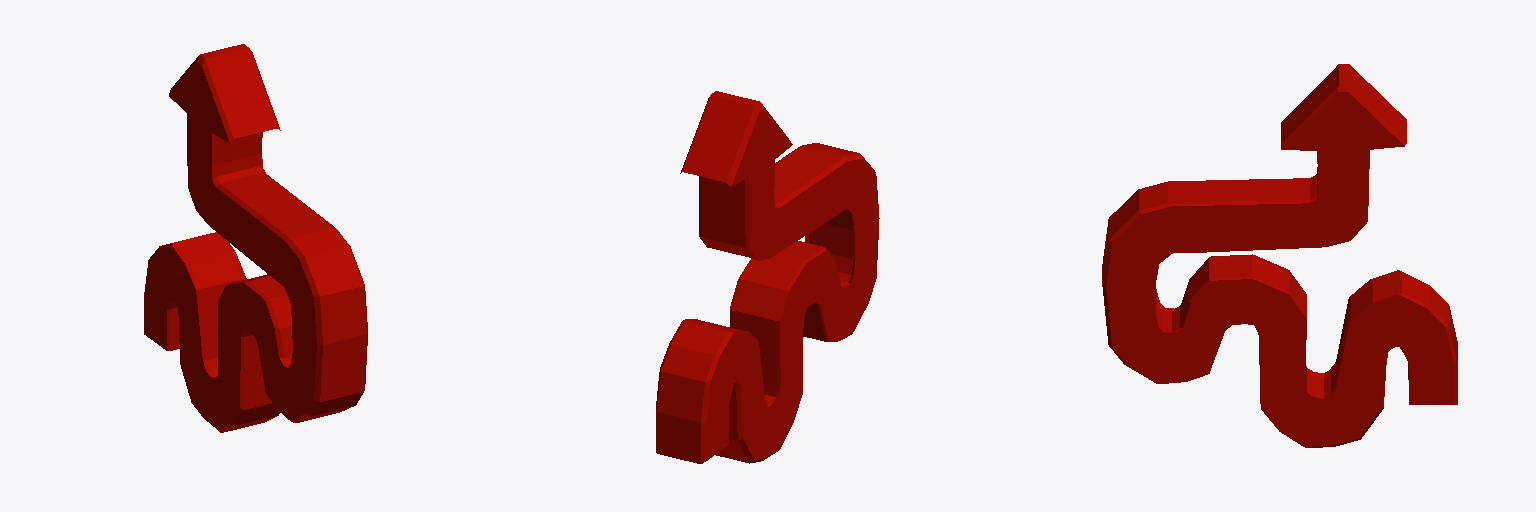
Rendered from artifact_inertia.obj.
The picture shows the model from 3 angles: view 1: azimuth 30°, elevation 25°; view 2: azimuth 150°, elevation 25°; view 3: azimuth 270°, elevation 25°; orthographic projection.
Visible parts, largest first — view 1: Plane; view 2: Plane; view 3: Plane.
Boxes of the visible parts, <box> form: Plane: <box>144,44,367,432</box>; Plane: <box>656,91,879,463</box>; Plane: <box>1102,64,1457,447</box>.
Bounding box in the file's own units: 1.02 × 6.97 × 6.18.